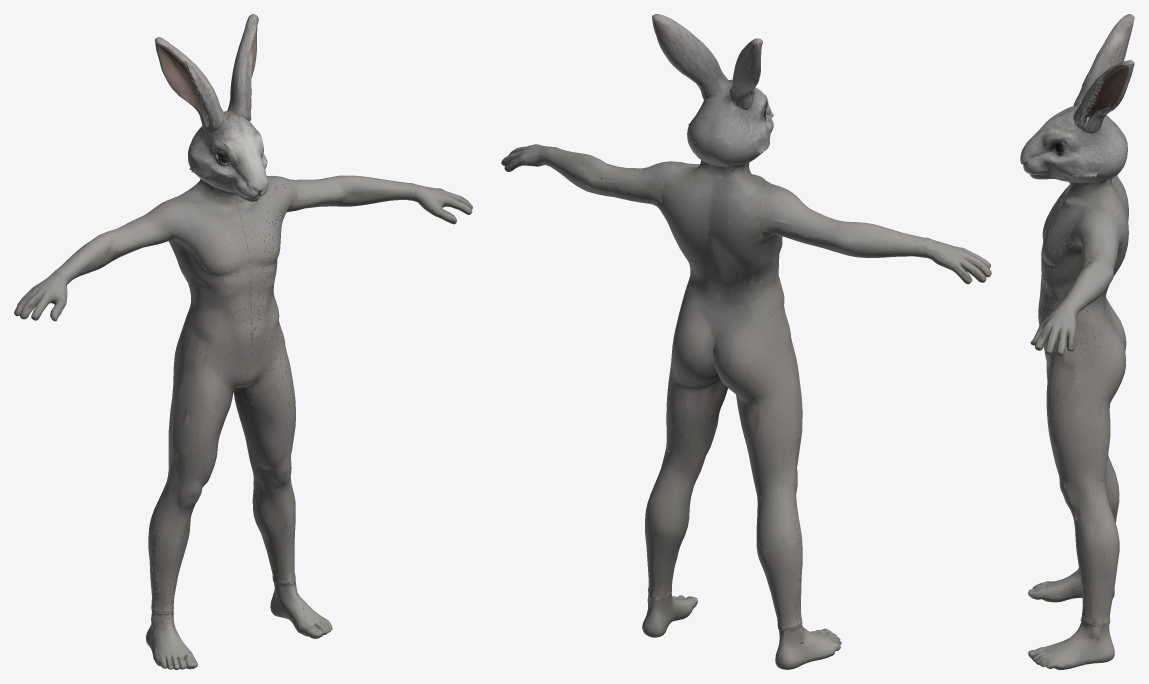
The model's file is coelho.glb.
3 renders of one model, left to right at view 1: azimuth 30°, elevation 25°; view 2: azimuth 150°, elevation 25°; view 3: azimuth 270°, elevation 25°, orthographic. The views are drawn at different scales.
Visible parts, largest first — view 1: node_0; view 2: node_0; view 3: node_0.
Boxes of the visible parts, x1,y1,x2,y2 form: node_0: (14, 14, 472, 669); node_0: (501, 14, 991, 669); node_0: (1020, 14, 1134, 669).
Bounding box in the file's own units: 0.9195 × 1.16 × 0.2019.
Materials: 1 (1 with a texture image).
